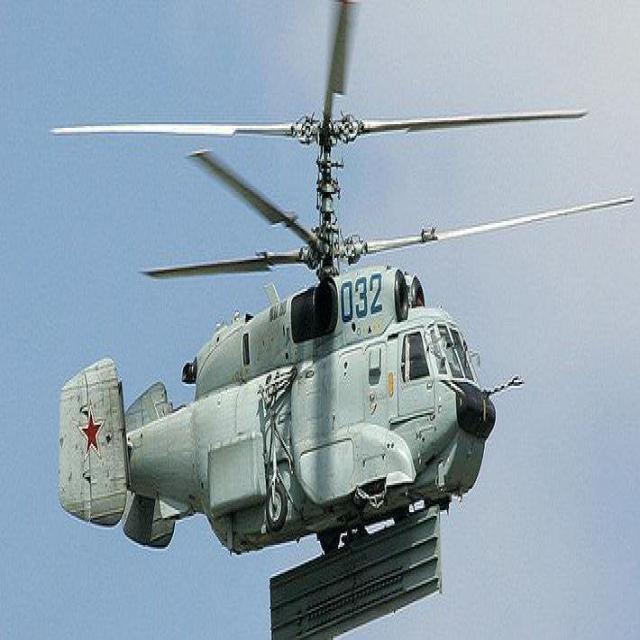MIL_HELO: (47, 0, 640, 576)
